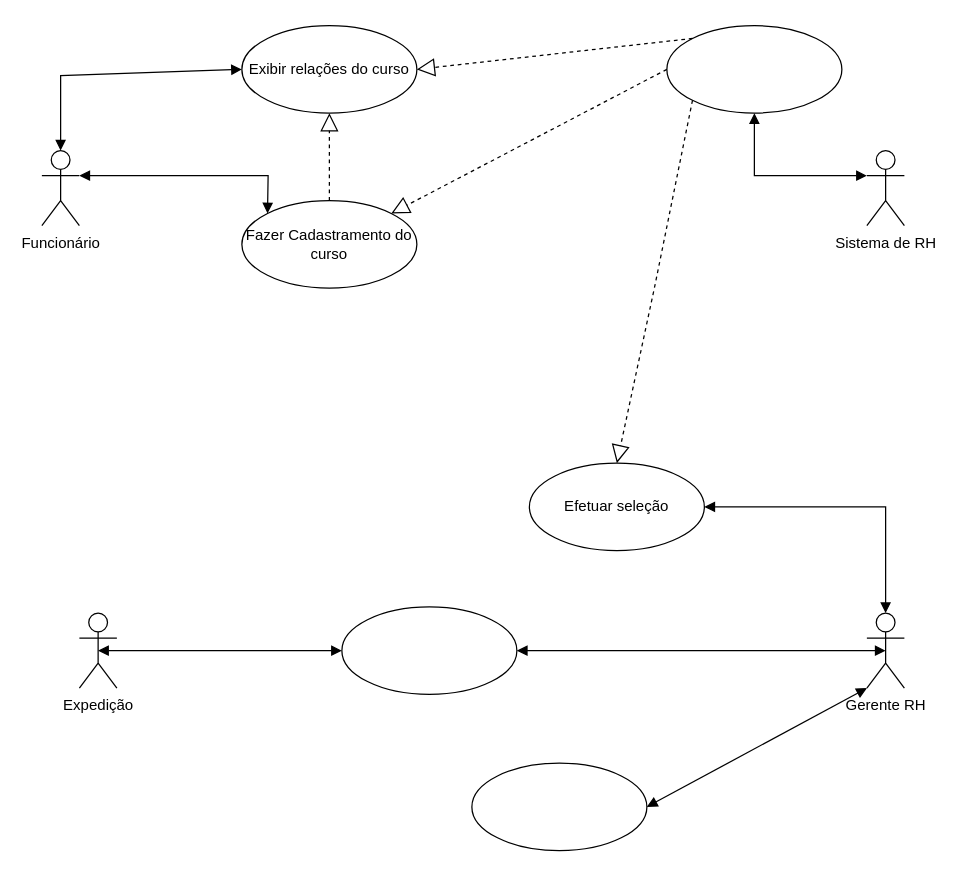
The diagram is 958 pixels wide and 873 high, and some of its shapes have lost their labels. The shapes that lost their labels are listed below. From the top down, each one's centre as x and y in pixels, then its label:
point (754, 68): Obter dados do funcionário
point (429, 650): liberar seleção
point (559, 806): Cadastrar critério de seleção
